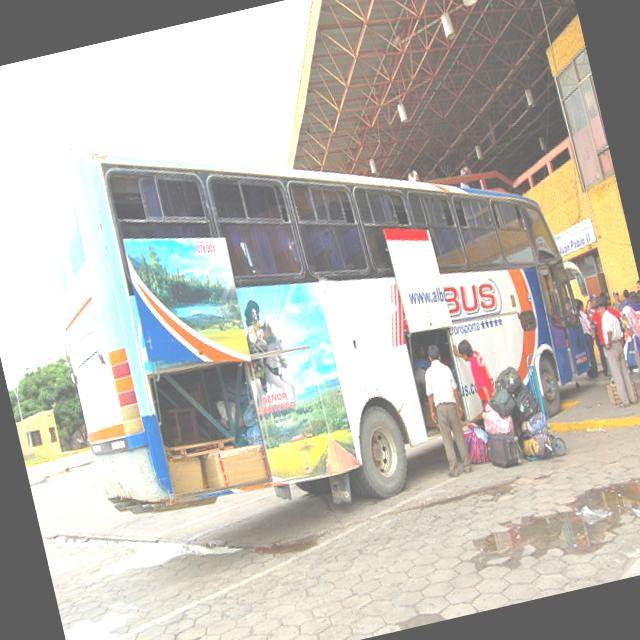Vehicle: (19, 46, 614, 567)
